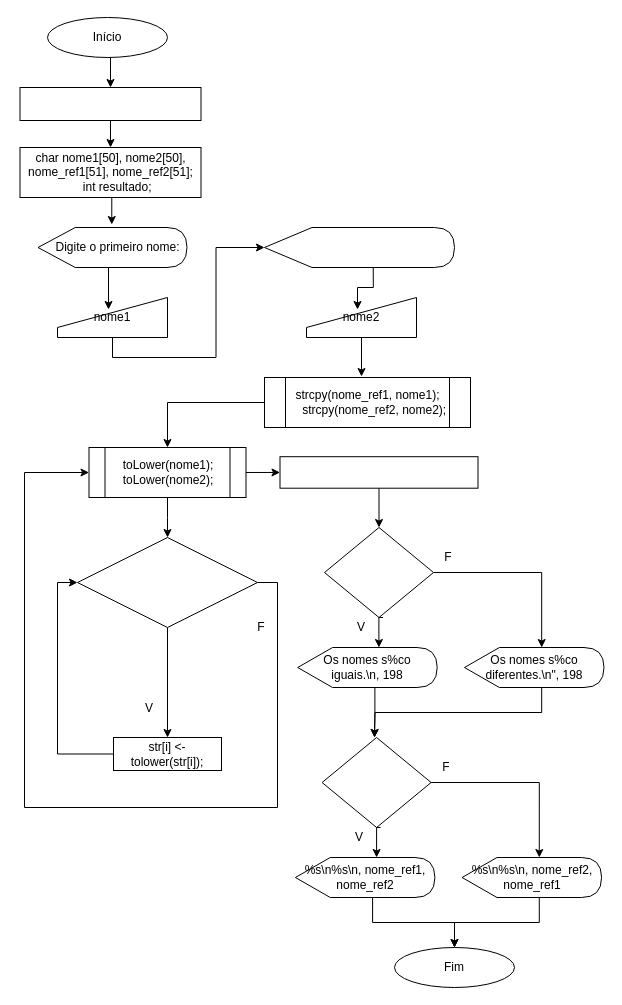
This 622x1005 diagram has some shape labels left out. The box of each missing label's shape, as (x1, y1, x2, y2) in pixels:
Digite o segundo nome:: (264, 226, 454, 268)
int i <- 0; str[i]; i++: (76, 536, 258, 628)
resultado <- strcmp(nome1, nome2);: (279, 456, 478, 488)
resultado = 0: (324, 526, 434, 618)
resultado > 0: (321, 736, 431, 828)
toLower(char *str): (19, 86, 201, 120)
